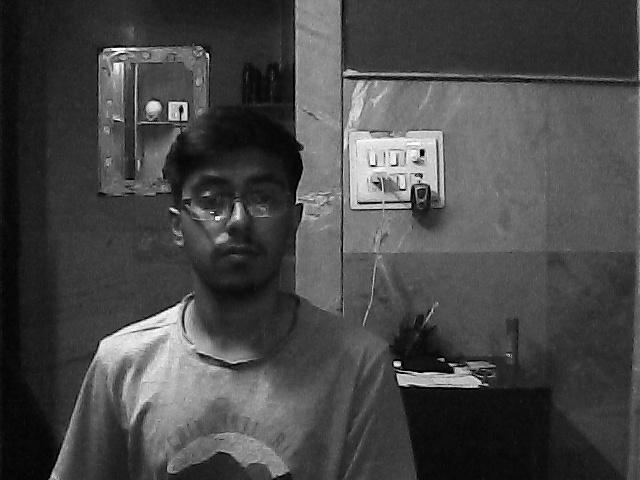nomask: (179, 146, 300, 301)
